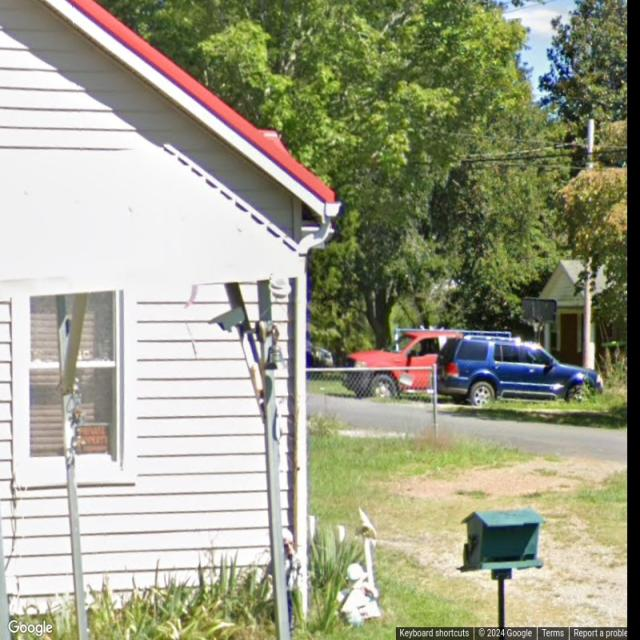House: (0, 0, 342, 621), (536, 259, 618, 371)
